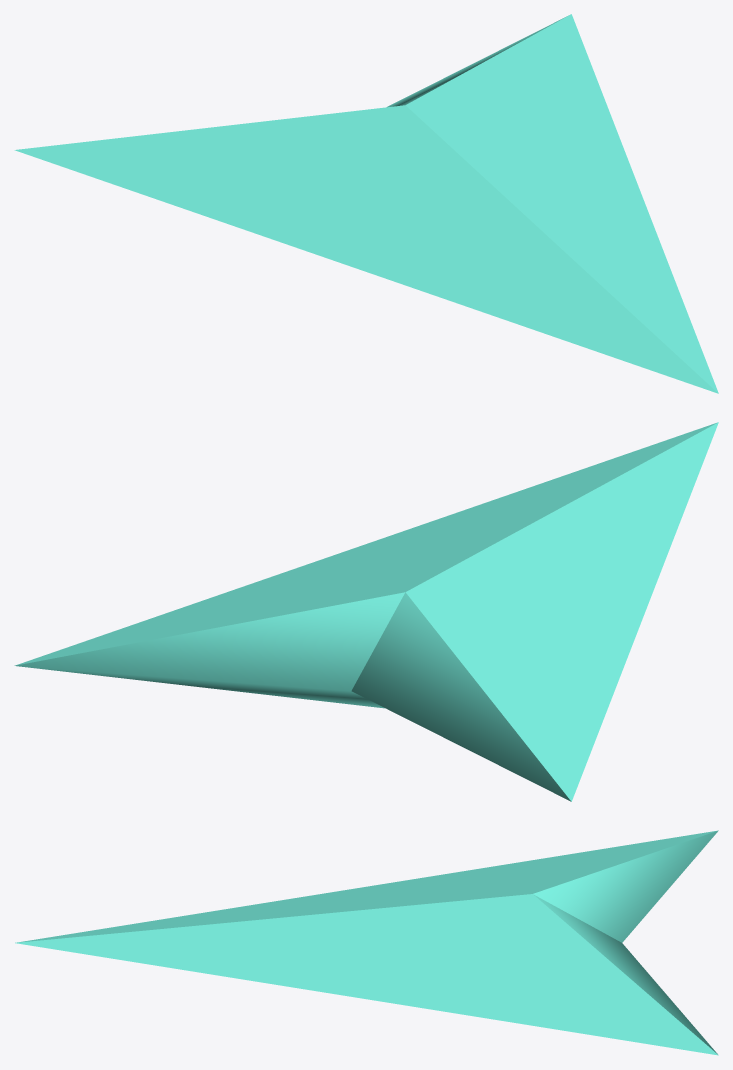
File: arrow.glb
3 renders of one model, top to bottom at view 1: azimuth 30°, elevation 25°; view 2: azimuth 150°, elevation 25°; view 3: azimuth 270°, elevation 25°, orthographic. The views are drawn at different scales.
Visible parts, largest first — view 1: arrow_model; view 2: arrow_model; view 3: arrow_model.
Boxes of the visible parts, x1,y1,x2,y2 form: arrow_model: (14,14,718,393); arrow_model: (14,422,718,801); arrow_model: (15,830,718,1055).
Size of the model in its own units: 4.85 by 0.9842 by 6.41.
